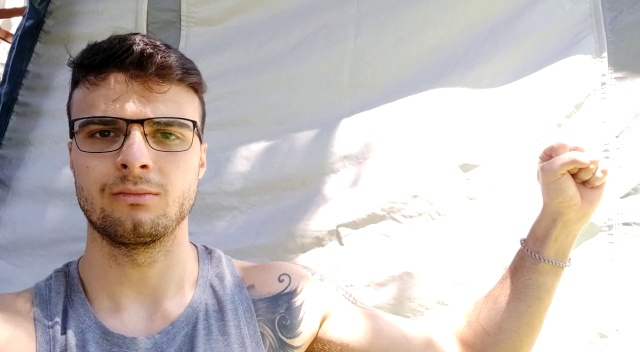Fist: (535, 136, 614, 221)
